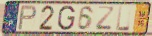2: (38, 4, 56, 32)
6: (76, 6, 95, 31)
G: (57, 5, 76, 32)
L: (115, 5, 131, 32)
P: (17, 5, 38, 31)
Z: (95, 6, 116, 32)
